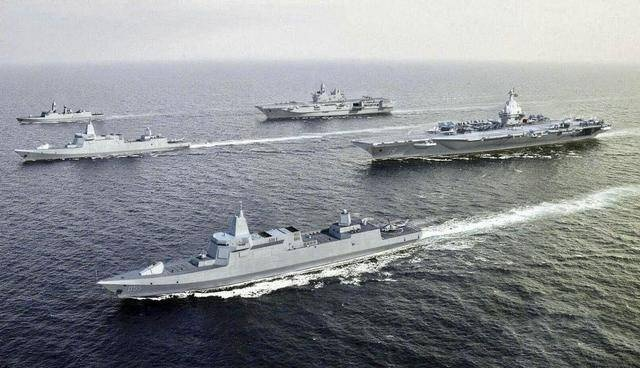warship: (89, 199, 426, 302), (350, 85, 612, 166), (12, 118, 191, 166), (255, 83, 392, 127), (15, 102, 106, 125)
